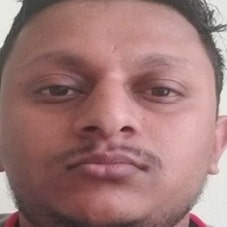awake: (22, 44, 195, 197)
